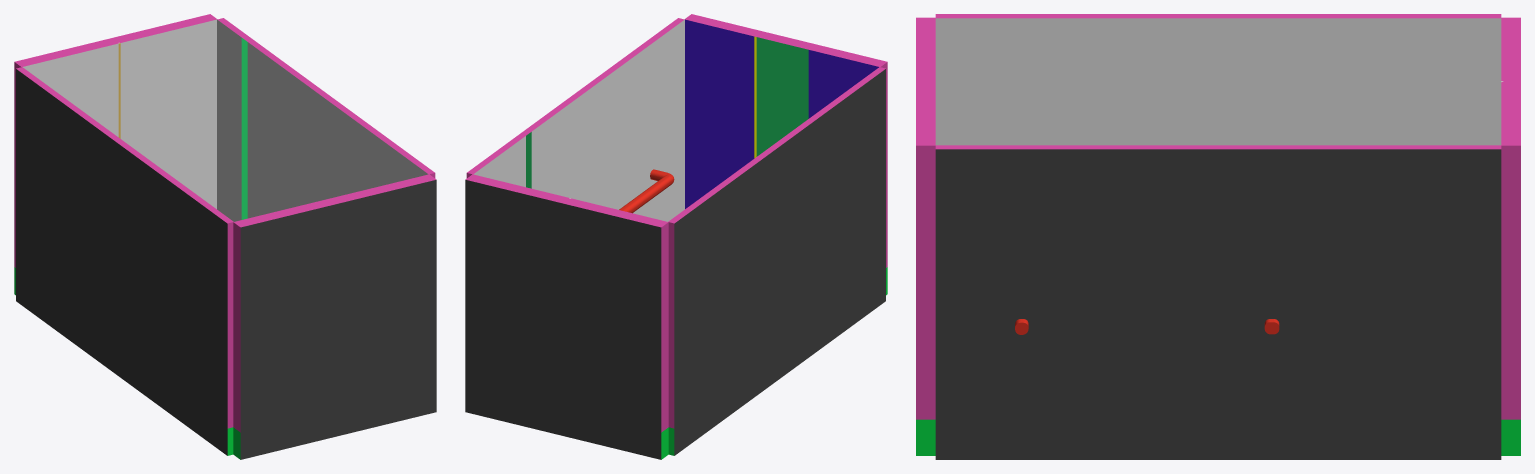
File: elevator.fbx
The picture shows the model from 3 angles, left to right: view 1: azimuth 30°, elevation 25°; view 2: azimuth 150°, elevation 25°; view 3: azimuth 270°, elevation 25°; orthographic projection. The views are drawn at different scales.
Visible parts, largest first — view 1: wallN, wallW, wallS, doorE1, doorE2, wallE; view 2: wallN, wallE, wallS, wallW; view 3: wallS, wallN, wallE, wallW.
Boxes of the visible parts, <box> form: wallN: <box>16,67,233,455</box>; wallW: <box>233,174,436,459</box>; wallS: <box>217,18,435,221</box>; doorE1: <box>119,19,216,208</box>; doorE2: <box>23,43,119,137</box>; wallE: <box>14,14,217,295</box>; wallN: <box>668,67,885,455</box>; wallE: <box>465,174,668,459</box>; wallS: <box>466,18,684,221</box>; wallW: <box>684,14,887,295</box>; wallS: <box>935,145,1501,459</box>; wallN: <box>935,14,1501,145</box>; wallE: <box>1501,17,1520,455</box>; wallW: <box>916,17,935,455</box>.
Size of the model in its own units: 245 by 255 by 450.
